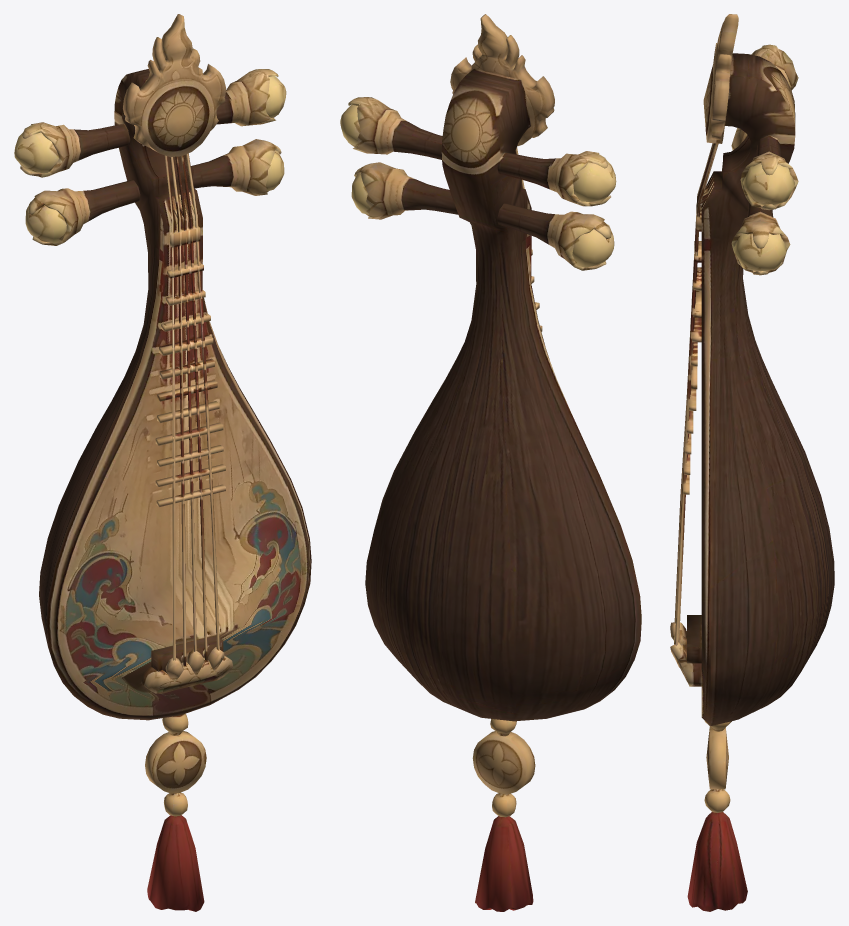
The model's file is SM_EnemyPart_ApsaraPipa.glb.
3 renders of one model, left to right at view 1: azimuth 30°, elevation 25°; view 2: azimuth 150°, elevation 25°; view 3: azimuth 270°, elevation 25°, orthographic.
Visible parts, largest first — view 1: SM_EnemyPart_ApsaraPipa_LOD0; view 2: SM_EnemyPart_ApsaraPipa_LOD0; view 3: SM_EnemyPart_ApsaraPipa_LOD0.
Boxes of the visible parts, x1,y1,x2,y2 form: SM_EnemyPart_ApsaraPipa_LOD0: (14, 14, 311, 911); SM_EnemyPart_ApsaraPipa_LOD0: (340, 14, 641, 911); SM_EnemyPart_ApsaraPipa_LOD0: (670, 14, 834, 911).
Size of the model in its own units: 0.2932 by 0.9191 by 0.1531.
Materials: 1 (1 with a texture image).
